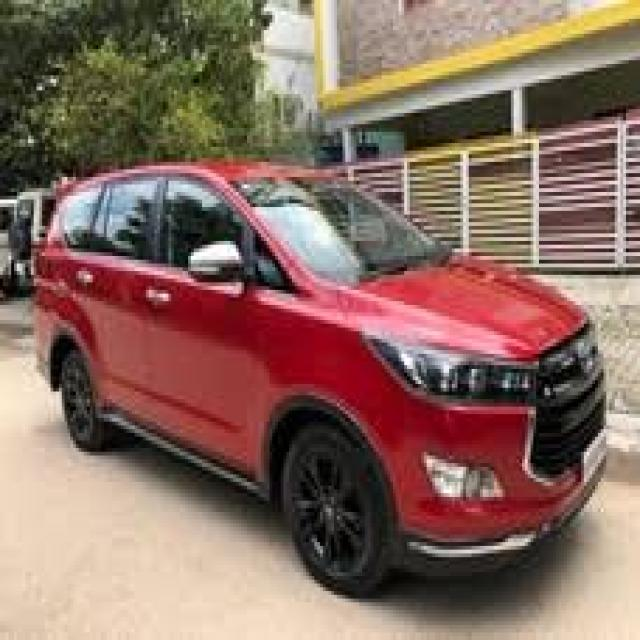light_vehicle: (32, 156, 607, 599)
